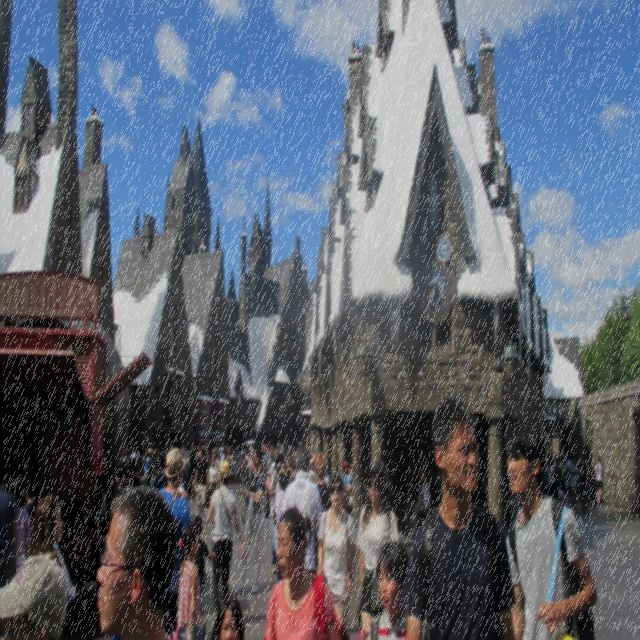pessoa: (390, 388, 526, 639), (504, 411, 600, 639), (95, 484, 180, 639), (262, 503, 342, 637), (358, 461, 400, 639), (156, 446, 194, 638), (314, 470, 358, 628), (206, 460, 246, 620), (280, 444, 324, 576), (0, 554, 68, 639), (233, 442, 268, 596), (366, 539, 409, 639), (172, 523, 202, 639), (545, 448, 594, 509), (115, 441, 169, 492), (0, 457, 20, 591), (29, 490, 64, 558), (191, 513, 217, 601), (268, 452, 286, 574), (273, 464, 291, 582), (10, 478, 32, 572), (408, 466, 432, 538), (212, 591, 246, 639), (192, 445, 212, 521), (278, 442, 316, 482), (312, 449, 333, 514), (231, 436, 255, 484), (178, 442, 197, 502), (434, 455, 450, 520), (22, 474, 40, 527), (262, 441, 278, 494), (202, 437, 232, 460), (206, 455, 220, 502), (341, 456, 354, 506), (594, 452, 604, 506)
